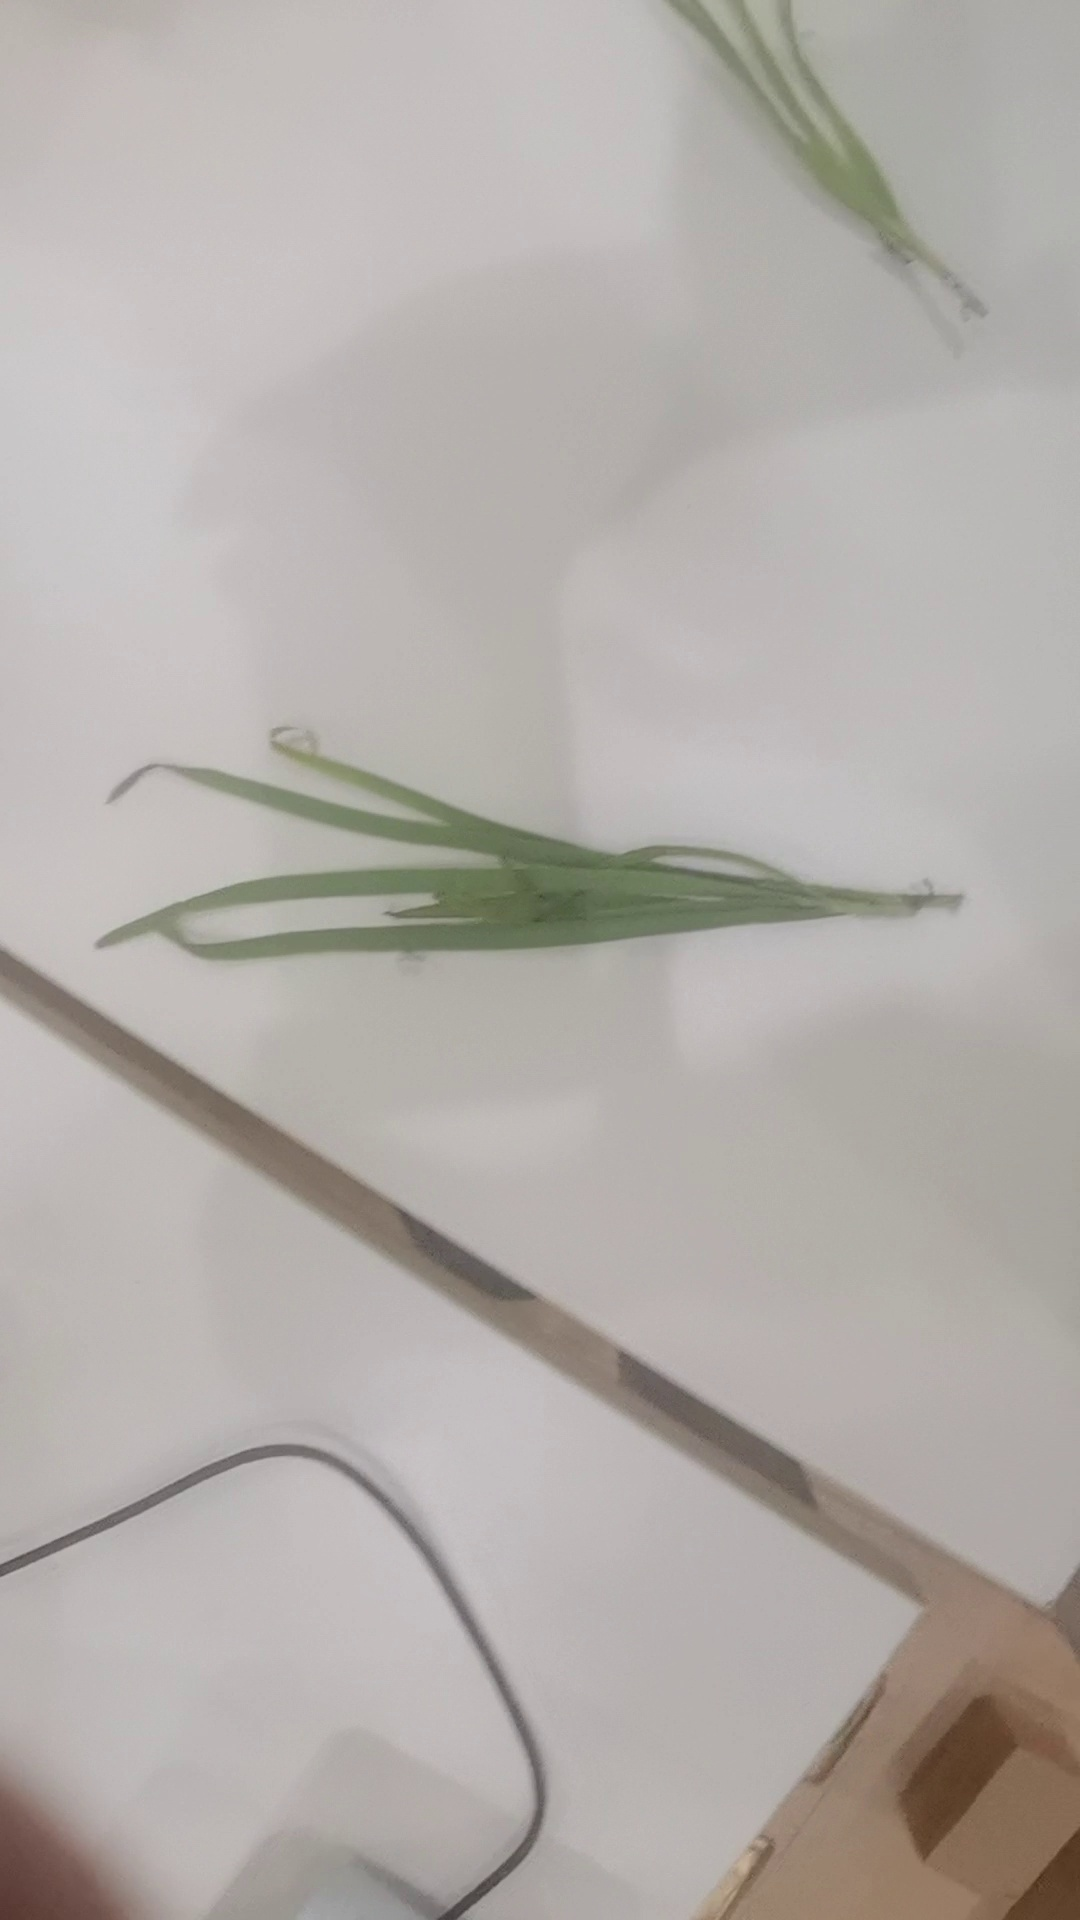chives: (65, 709, 975, 988), (632, 1, 1008, 329)
